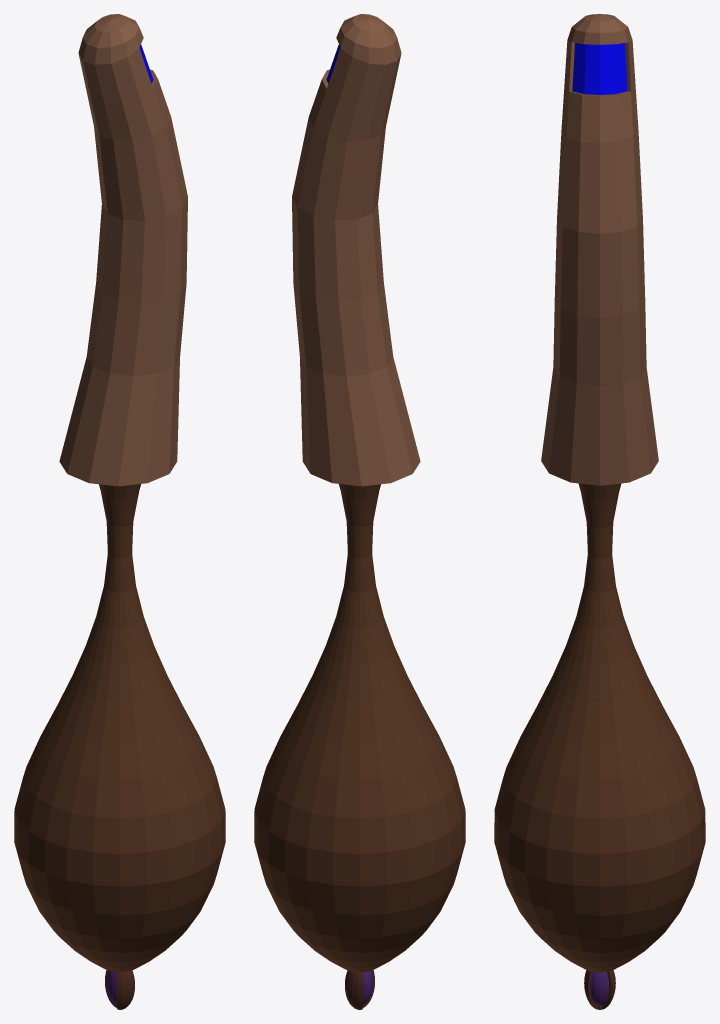
File: Wand 947.glb
3 views of the same model, side by side, from view 1: azimuth 30°, elevation 25°; view 2: azimuth 150°, elevation 25°; view 3: azimuth 270°, elevation 25° (orthographic).
Parts seen in each view (by area): view 1: GeneratedWand; view 2: GeneratedWand; view 3: GeneratedWand.
Boxes of the visible parts, x1,y1,x2,y2 form: GeneratedWand: [14, 14, 225, 1009]; GeneratedWand: [254, 14, 465, 1009]; GeneratedWand: [494, 14, 705, 1009].
Bounding box in the file's own units: 0.1026 × 0.5306 × 0.1026.
